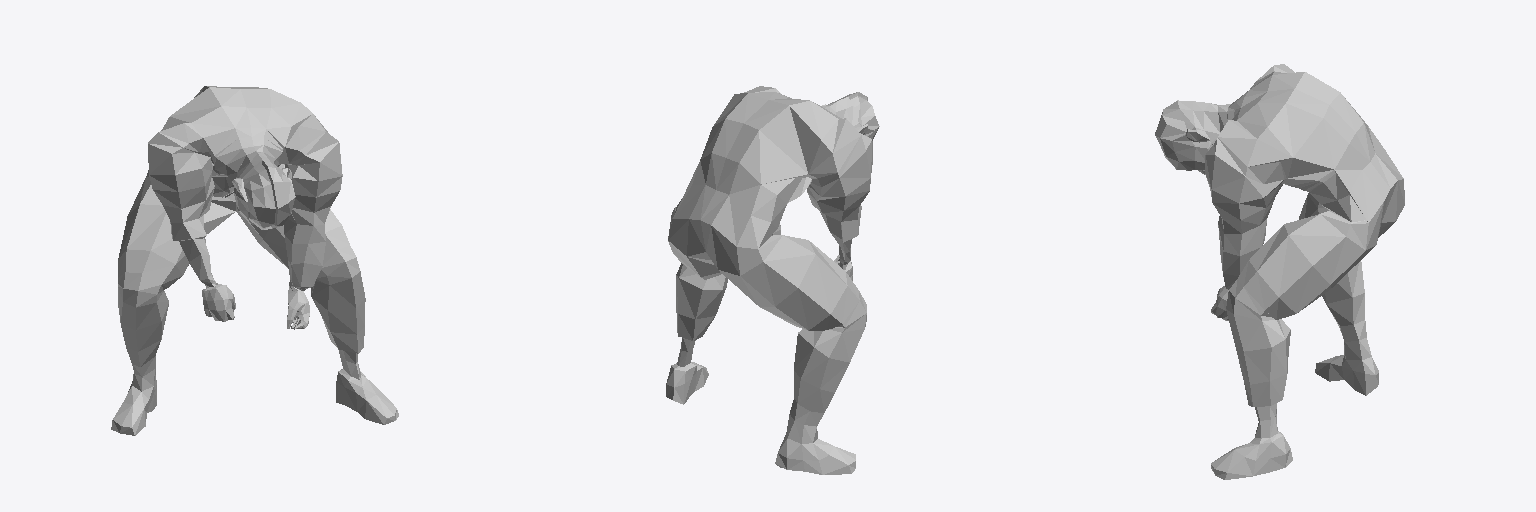
The model's file is ZombieAttack(61).obj.
3 renders of one model, left to right at view 1: azimuth 30°, elevation 25°; view 2: azimuth 150°, elevation 25°; view 3: azimuth 270°, elevation 25°, orthographic.
Visible parts, largest first — view 1: Plane002; view 2: Plane002; view 3: Plane002.
Part boxes in pixels (left/top/right/bottom): Plane002: left=111, top=86, right=398, bottom=435; Plane002: left=666, top=86, right=879, bottom=474; Plane002: left=1155, top=64, right=1404, bottom=479.
Bounding box in the file's own units: 838 × 1163 × 785.